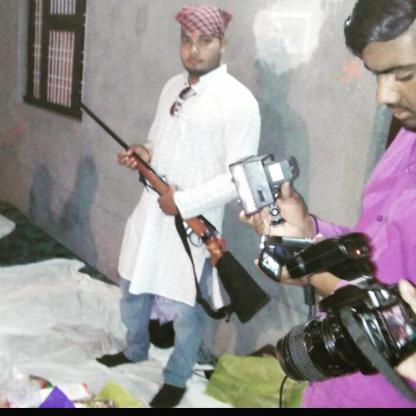rifle: (68, 92, 274, 326)
